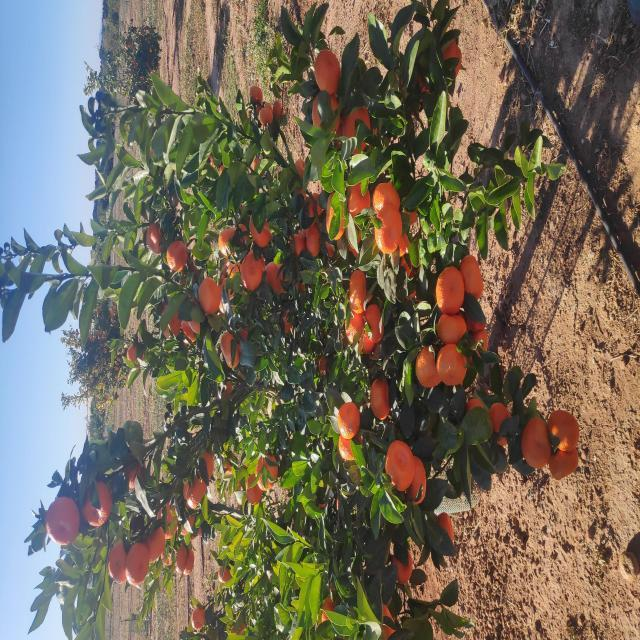Jeruk Sudah Matang: (96, 46, 142, 80), (171, 522, 223, 552), (149, 385, 200, 415), (113, 81, 158, 112), (387, 374, 435, 402), (326, 436, 374, 464), (486, 342, 534, 370), (189, 548, 230, 580), (254, 436, 296, 466), (506, 312, 548, 340), (340, 459, 386, 484), (546, 314, 590, 340), (252, 415, 294, 442), (53, 126, 98, 149), (194, 488, 237, 512), (384, 218, 417, 248), (400, 326, 448, 346), (160, 548, 192, 578), (136, 406, 184, 426), (296, 437, 326, 467), (149, 255, 188, 278), (151, 124, 194, 144), (220, 370, 263, 390), (428, 372, 458, 400), (348, 240, 386, 262), (327, 198, 363, 221), (101, 157, 138, 179), (421, 348, 458, 370), (201, 338, 238, 360), (326, 348, 371, 366), (296, 364, 336, 384), (76, 145, 115, 165), (57, 109, 98, 128), (275, 467, 312, 488), (131, 187, 169, 207), (296, 344, 334, 364), (272, 220, 308, 240), (368, 166, 400, 188), (301, 161, 336, 181), (392, 250, 426, 270), (57, 392, 91, 412), (327, 218, 362, 236), (180, 338, 206, 362), (345, 264, 379, 282), (376, 288, 406, 308), (386, 146, 418, 164), (96, 436, 128, 454), (135, 246, 167, 262), (0, 381, 36, 395), (158, 200, 192, 214), (271, 127, 296, 145), (286, 358, 314, 374), (384, 306, 414, 320), (347, 276, 376, 290), (106, 177, 126, 196), (414, 304, 444, 316), (366, 250, 391, 264), (297, 182, 320, 196), (11, 191, 34, 205), (66, 176, 95, 187), (17, 322, 43, 334), (579, 442, 601, 456), (309, 466, 325, 485), (224, 466, 241, 483), (516, 272, 540, 284), (65, 183, 91, 194), (364, 400, 386, 413), (75, 161, 94, 174), (308, 282, 332, 292), (424, 312, 448, 322), (264, 319, 284, 331), (534, 250, 554, 262), (57, 218, 74, 232), (515, 260, 532, 274), (360, 228, 378, 241), (464, 252, 482, 265), (563, 455, 595, 462), (462, 295, 482, 306), (378, 325, 400, 334), (306, 188, 322, 200), (383, 398, 405, 406), (140, 183, 162, 189), (440, 296, 453, 306), (524, 264, 538, 273), (465, 219, 475, 225), (323, 110, 330, 114), (297, 92, 303, 95), (304, 97, 310, 100), (298, 102, 304, 105), (240, 105, 246, 108), (228, 99, 234, 102), (269, 115, 275, 118), (592, 128, 596, 132), (304, 102, 308, 106), (330, 112, 334, 116), (280, 116, 284, 120), (571, 134, 576, 137), (300, 89, 305, 92), (269, 100, 274, 103), (576, 133, 580, 136), (566, 151, 570, 154), (334, 113, 338, 116), (306, 72, 310, 75), (304, 76, 308, 79), (258, 91, 262, 94), (294, 104, 298, 107), (286, 122, 292, 124), (303, 88, 308, 90), (590, 126, 594, 128), (560, 142, 564, 144), (308, 76, 312, 78), (243, 90, 247, 92), (276, 104, 280, 106), (324, 96, 327, 98)
